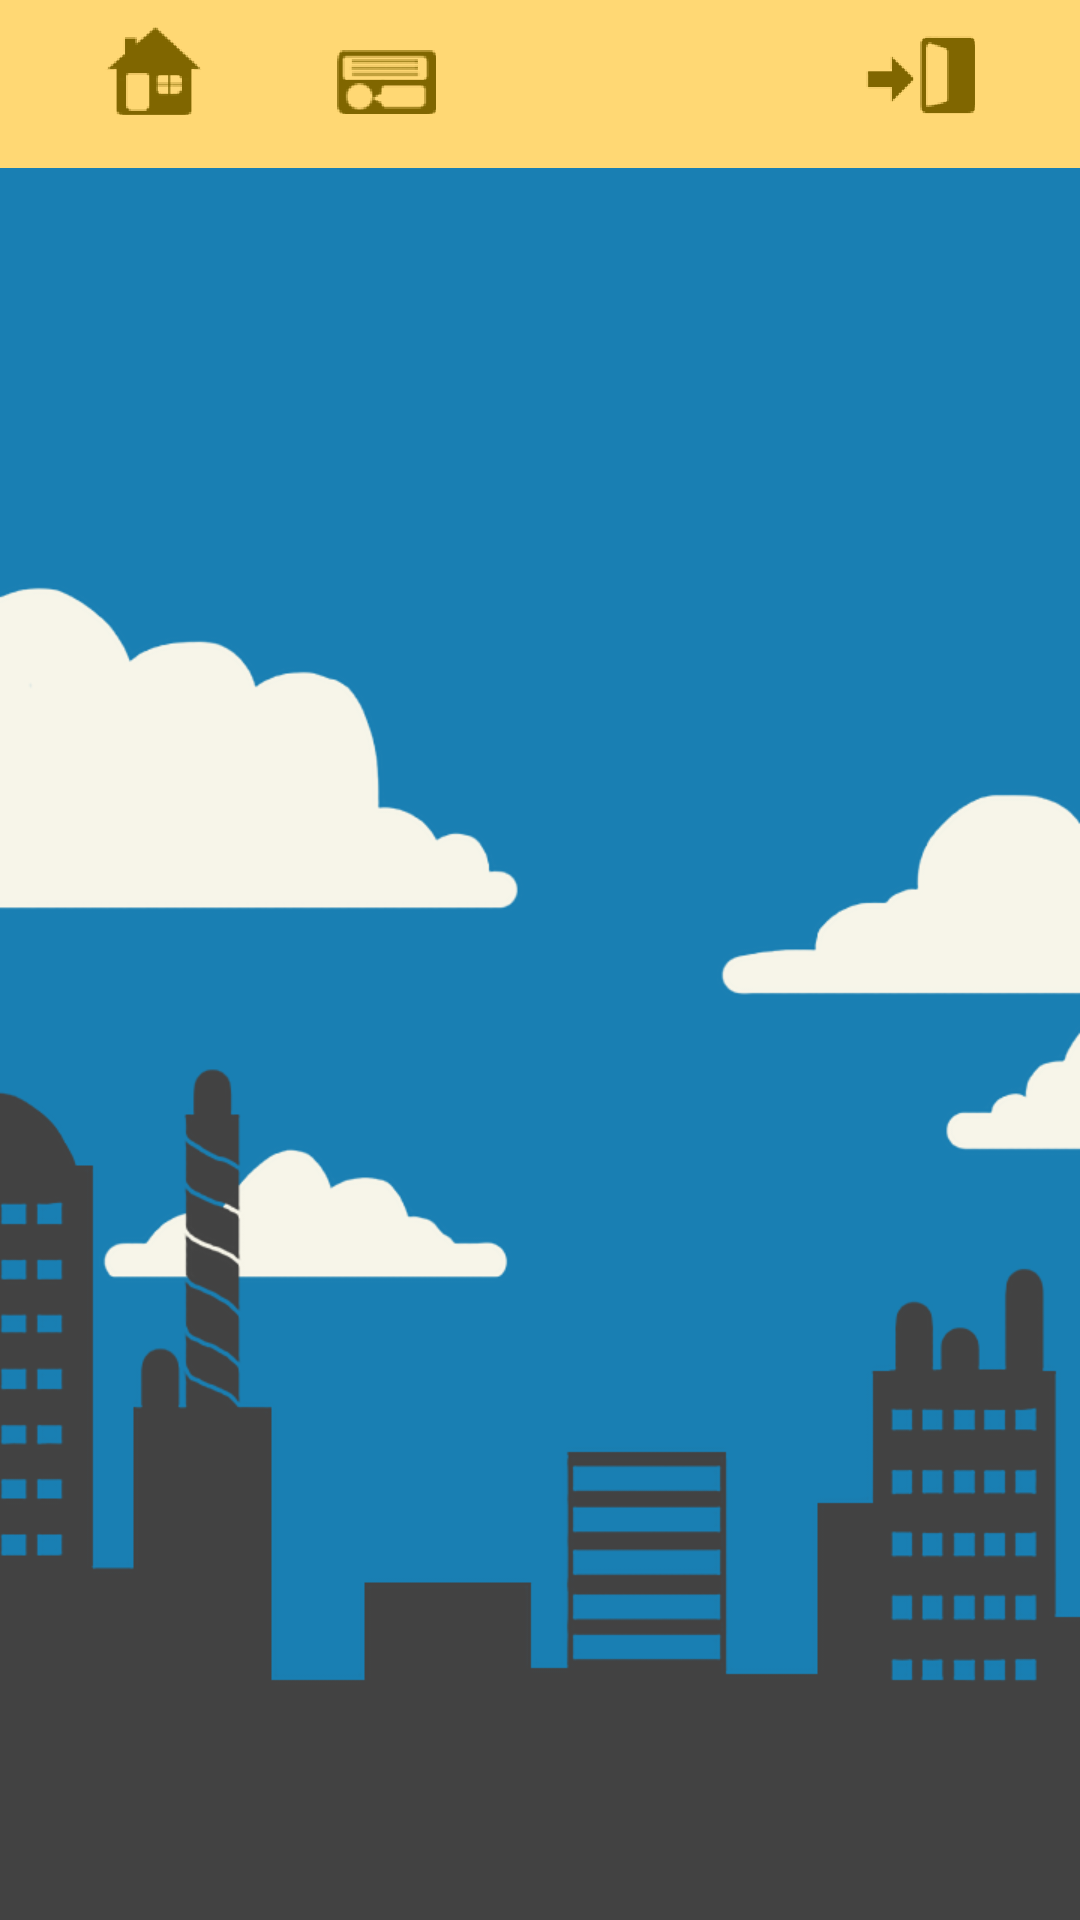

Where icons sit on this 1080*1920 app screen, as (x1, y1, x2, y2):
feedbackicon: (337, 50, 436, 114)
homeicon: (108, 27, 200, 115)
